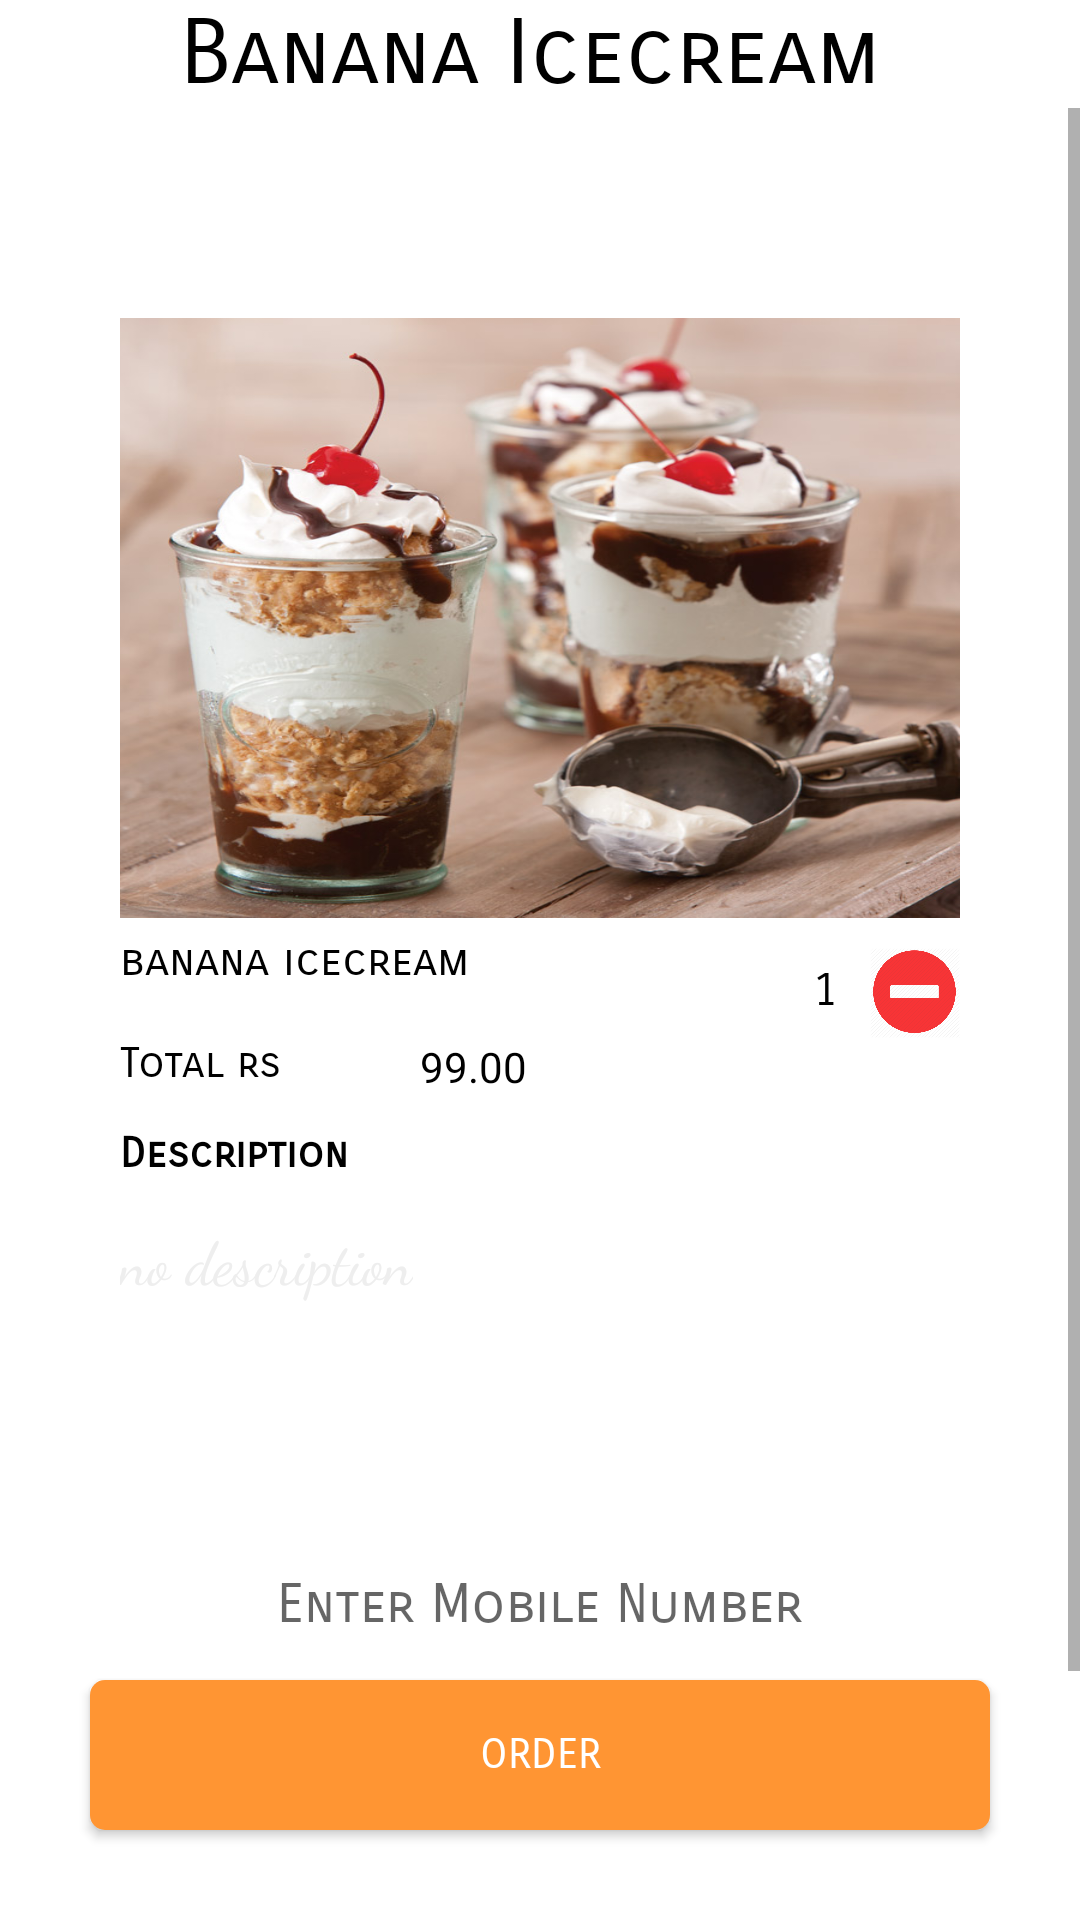

Where to tap for icons on this 1080*1920 app screen, as point (x, y):
minus: point (914, 991)
